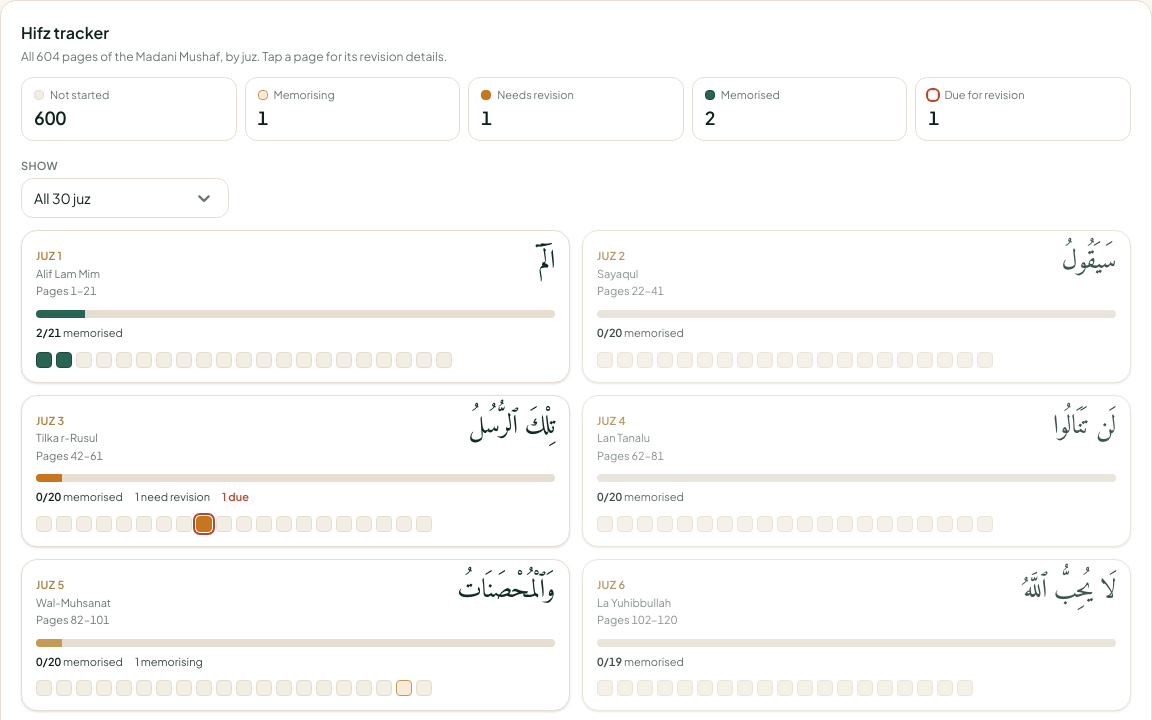
Test case: <HifzPageMap /> › renders all 604 pages, counts states and due pages, and opens a page
Step 1. Focus the dropdown labelled "Show" → (39, 165), box [21, 159, 58, 172]
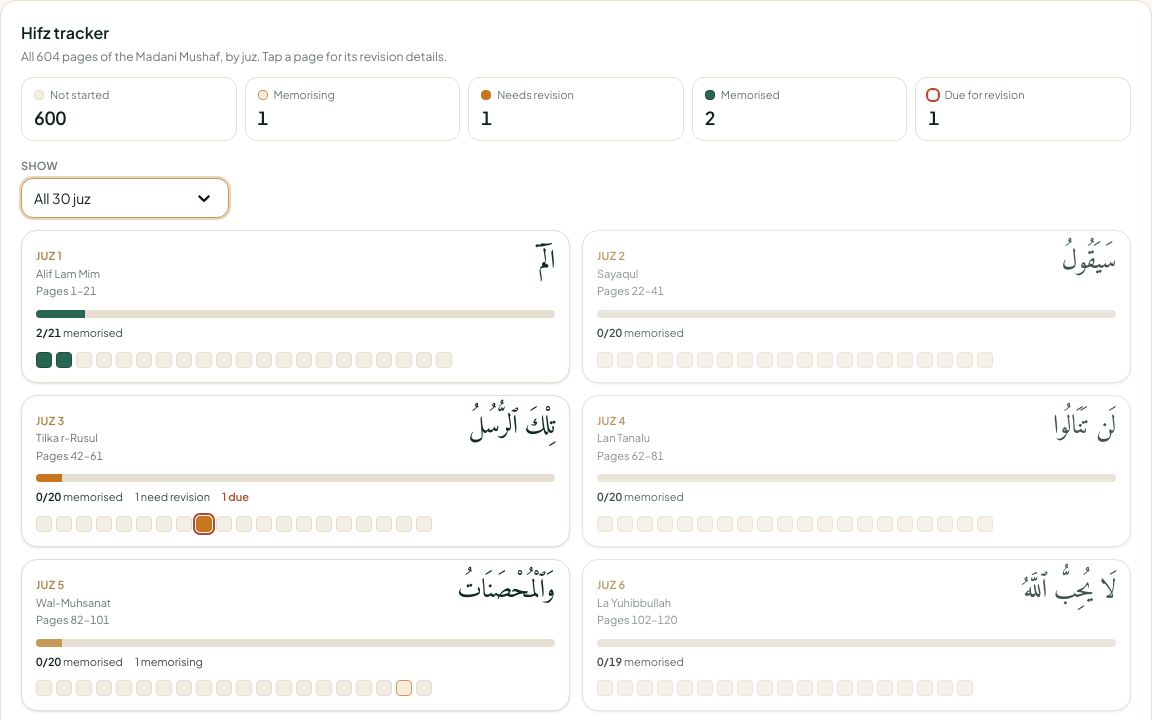
Step 2. Press ArrowDown in the dropdown labelled "Show", box [21, 159, 58, 172]
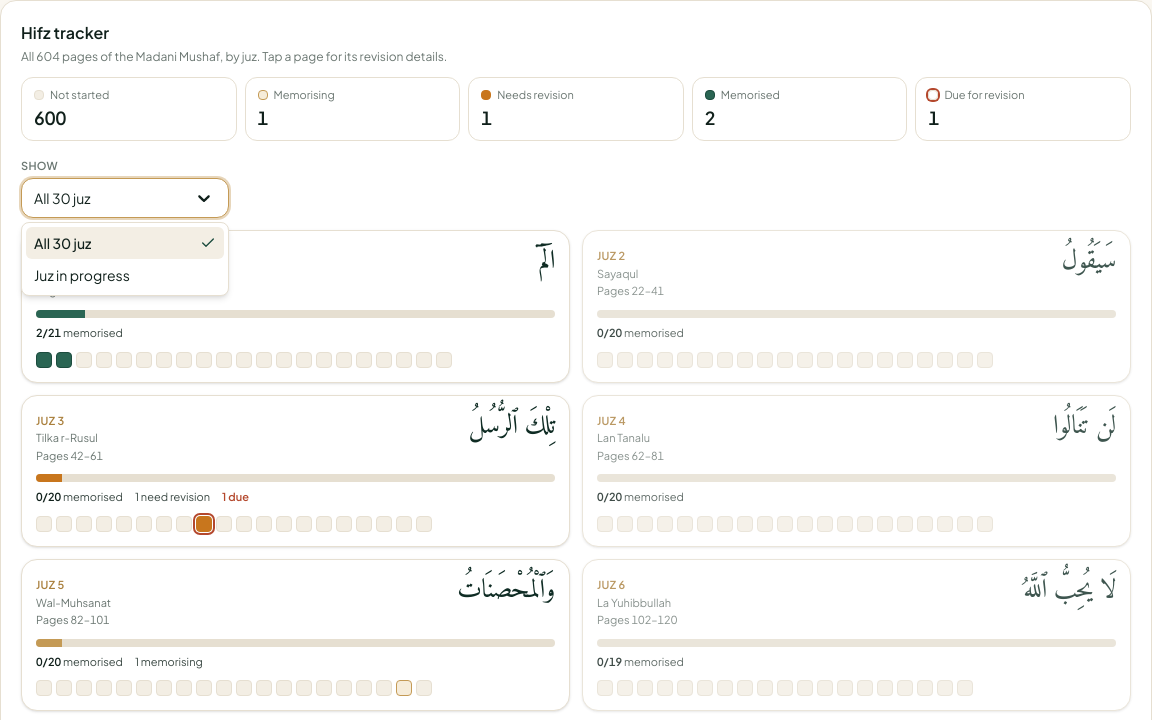
Step 3. Click the option "All 30 juz" → (125, 243), box [26, 227, 224, 259]
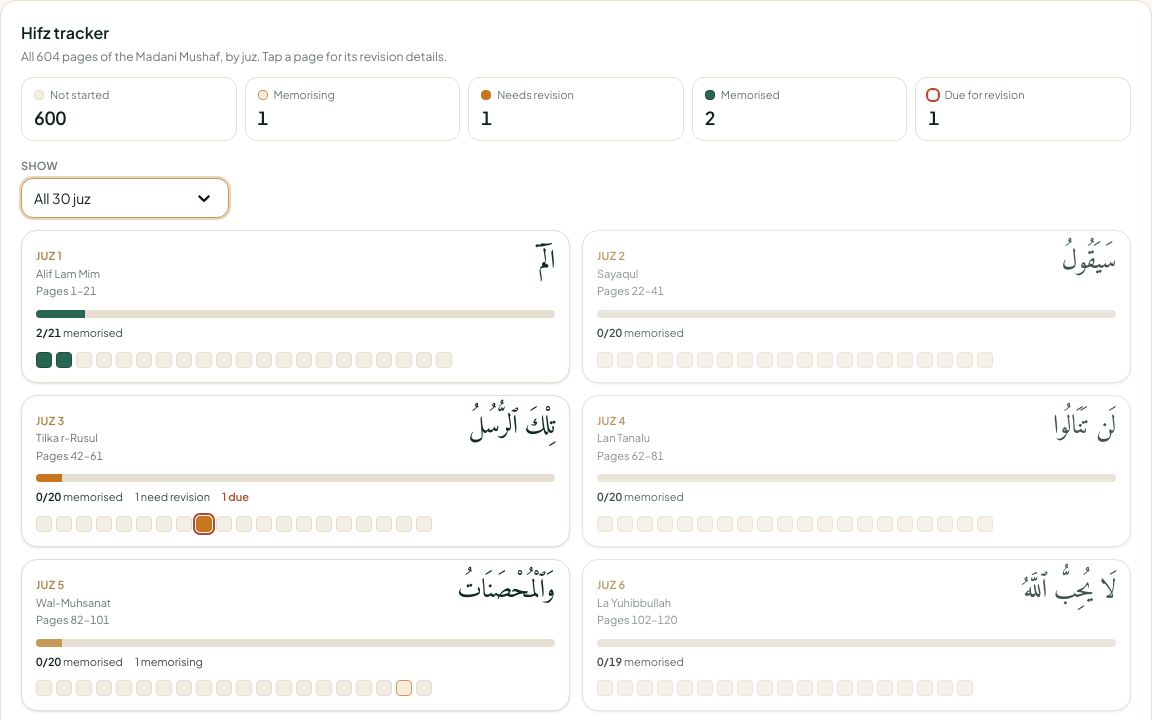
Step 4. Click the button named "Page 50: Needs revision, due for revision" → (204, 524), box [196, 516, 212, 532]
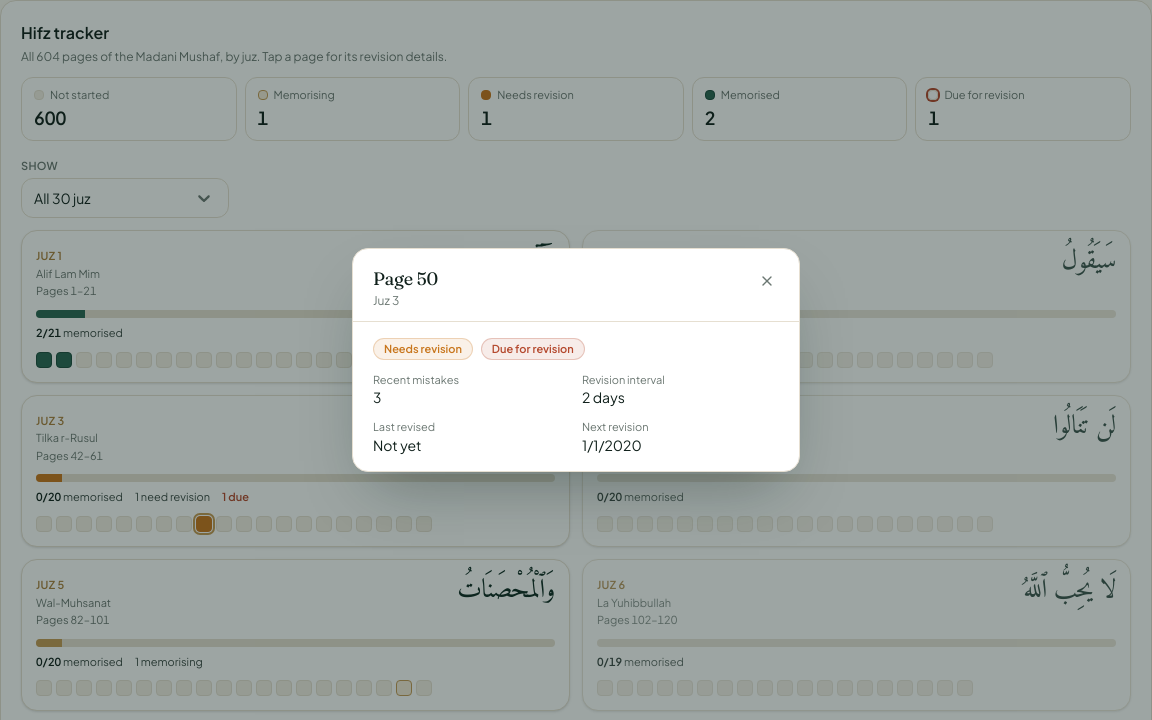
Expected: the text "Juz 3" is shown, [373, 293, 399, 308]
Expected: the text "Due for revision" is shown, [481, 338, 585, 360]
Expected: the text "Needs revision" is shown, [373, 338, 473, 360]
